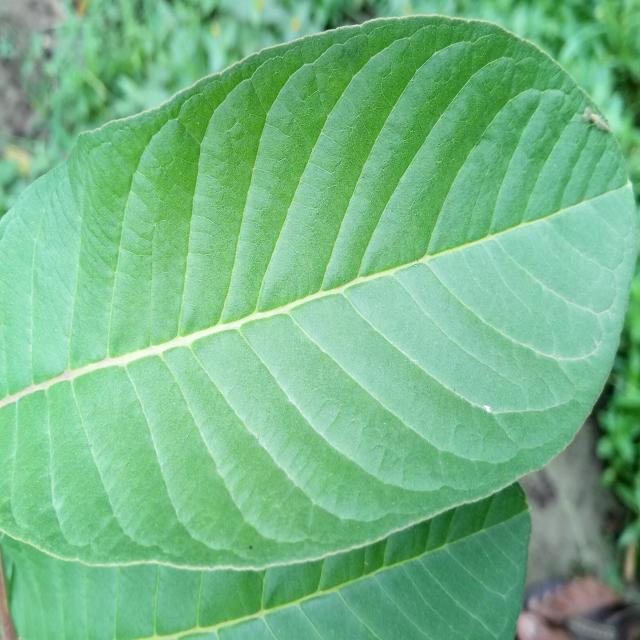Disease Free: (0, 17, 638, 638)
